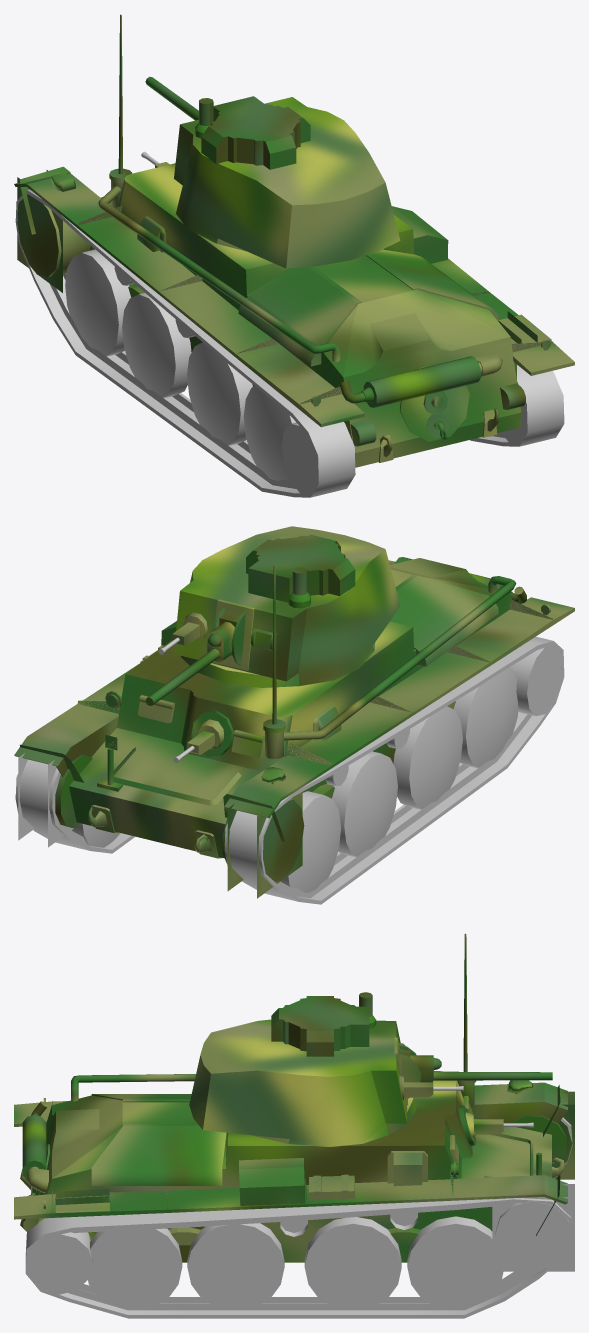
The model's file is sensya.fbx.
3 views of the same model, one above another, from view 1: azimuth 30°, elevation 25°; view 2: azimuth 150°, elevation 25°; view 3: azimuth 270°, elevation 25° (orthographic). The views are drawn at different scales.
Visible parts, largest first — view 1: body, turret, caterpillar_L_01, wheel_L3, wheel_L4, wheel_L2, sprocket_wheel_L, wheel_L1, caterpillar_R_01, caterpillar_L_02, idler_wheel_L, turret_cannon_barrel; view 2: body, turret, caterpillar_L_01, wheel_L2, wheel_L3, wheel_L1, sprocket_wheel_L, wheel_L4, caterpillar_R_01, idler_wheel_L, caterpillar_L_02, sprocket_wheel_R (+5 smaller); view 3: body, turret, caterpillar_R_01, wheel_R3, wheel_R2, wheel_R4, wheel_R1, sprocket_wheel_R, caterpillar_R_02, idler_wheel_R, turret_cannon_barrel, sprocket_wheel_L (+3 smaller).
Boxes of the visible parts, bbox=[...] form: body: bbox=[14, 14, 574, 467]; turret: bbox=[174, 96, 400, 268]; caterpillar_L_01: bbox=[15, 189, 355, 497]; wheel_L3: bbox=[122, 293, 191, 398]; wheel_L4: bbox=[65, 249, 131, 356]; wheel_L2: bbox=[187, 342, 252, 445]; sprocket_wheel_L: bbox=[17, 170, 94, 292]; wheel_L1: bbox=[243, 386, 295, 481]; caterpillar_R_01: bbox=[470, 365, 564, 446]; caterpillar_L_02: bbox=[49, 273, 296, 488]; idler_wheel_L: bbox=[281, 422, 316, 493]; turret_cannon_barrel: bbox=[145, 76, 198, 120]; body: bbox=[14, 557, 574, 863]; turret: bbox=[174, 526, 400, 687]; caterpillar_L_01: bbox=[224, 636, 564, 904]; wheel_L2: bbox=[393, 706, 462, 809]; wheel_L3: bbox=[332, 751, 397, 857]; wheel_L1: bbox=[453, 667, 518, 768]; sprocket_wheel_L: bbox=[227, 792, 304, 898]; wheel_L4: bbox=[281, 791, 340, 893]; caterpillar_R_01: bbox=[15, 759, 134, 853]; idler_wheel_L: bbox=[509, 645, 561, 716]; caterpillar_L_02: bbox=[277, 714, 531, 898]; sprocket_wheel_R: bbox=[15, 753, 73, 847]; body: bbox=[14, 933, 567, 1262]; turret: bbox=[189, 992, 421, 1146]; caterpillar_R_01: bbox=[25, 1198, 572, 1318]; wheel_R3: bbox=[304, 1217, 401, 1303]; wheel_R2: bbox=[187, 1223, 284, 1303]; wheel_R4: bbox=[407, 1216, 503, 1303]; wheel_R1: bbox=[88, 1228, 182, 1303]; sprocket_wheel_R: bbox=[492, 1184, 574, 1271]; caterpillar_R_02: bbox=[68, 1205, 536, 1310]; idler_wheel_R: bbox=[29, 1232, 92, 1294]; turret_cannon_barrel: bbox=[433, 1071, 552, 1080]; sprocket_wheel_L: bbox=[552, 1091, 574, 1179].
Size of the model in its own units: 499 by 1058 by 618.
